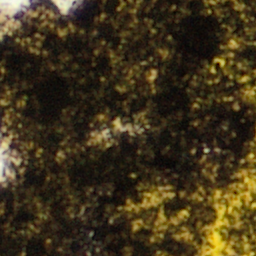cement_matrix: (0, 0, 255, 255), (223, 193, 255, 255), (147, 196, 157, 202), (244, 249, 249, 254), (117, 123, 122, 127), (100, 134, 103, 137)
cracks: (202, 174, 255, 255), (148, 197, 156, 201), (245, 250, 248, 253), (118, 124, 121, 126), (101, 135, 102, 136)
gravel_crushed_stones: (0, 0, 34, 33), (0, 138, 15, 183), (52, 0, 79, 12)
